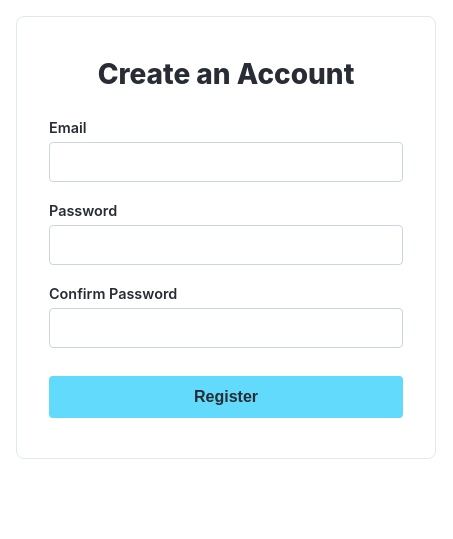
RegisterPage › shows required error when email is empty and form is submitted
This screenshot has width=453, height=539.
Click the button "Register" at (226, 397), box [49,376,403,418]
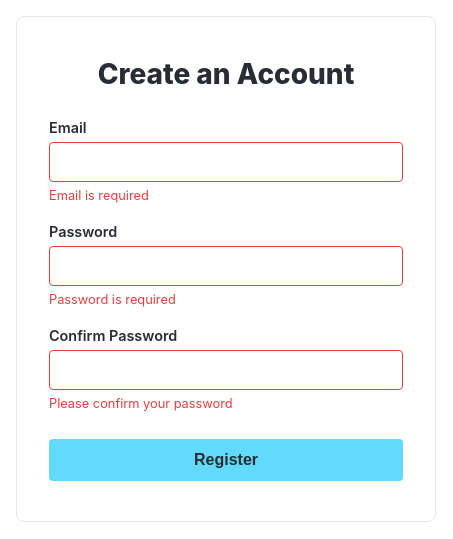
expect the text "Email is required" is shown: met, box [49,188,149,203]
